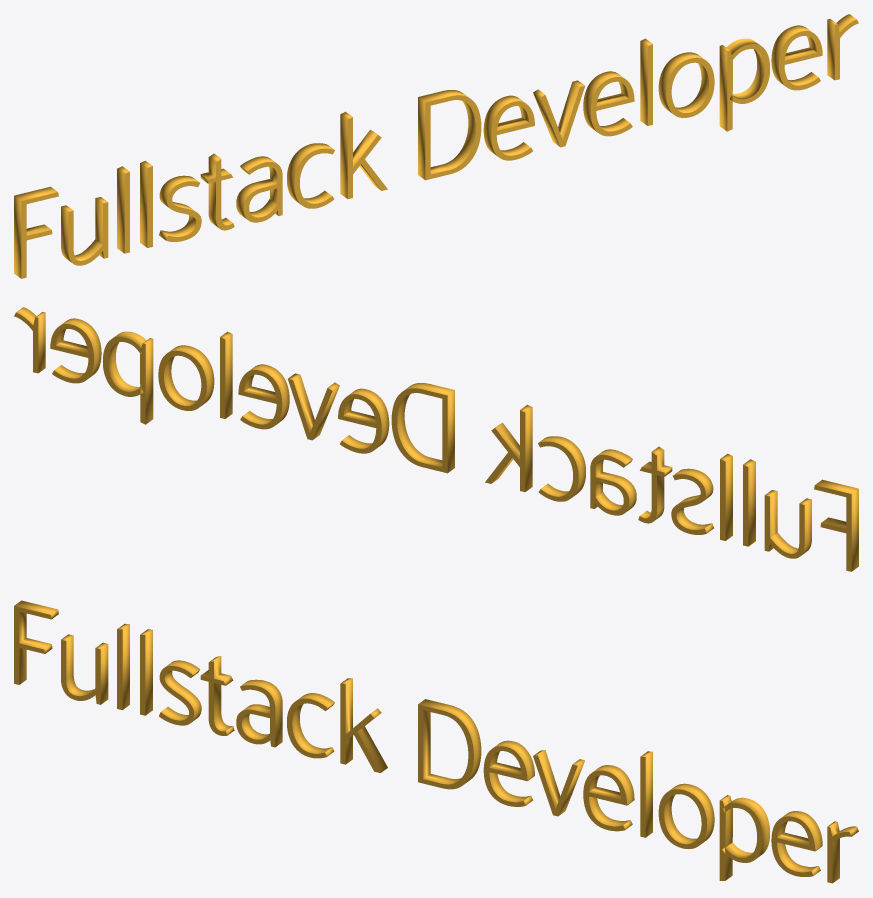
The model's file is fullstack_developer.glb.
3 renders of one model, top to bottom at view 1: azimuth 30°, elevation 25°; view 2: azimuth 150°, elevation 25°; view 3: azimuth 330°, elevation 25°, orthographic.
Parts seen in each view (by area): view 1: Text.010, Text.016, Text.015, Text.007, Text.009, Text.017, Text.013, Text.011, Text.002, Text.001, Text.012, Text.005 (+6 smaller); view 2: Text.010, Text.016, Text.015, Text.007, Text.009, Text.017, Text.013, Text.011, Text.002, Text.001, Text.012, Text.005 (+6 smaller); view 3: Text.010, Text.016, Text.011, Text.013, Text.017, Text.009, Text.007, Text.015, Text.002, Text.001, Text.005, Text.012 (+6 smaller).
Part boxes in pixels (bbox=[...]): Text.010: bbox=[418, 90, 481, 180]; Text.016: bbox=[719, 38, 770, 131]; Text.015: bbox=[658, 52, 714, 117]; Text.007: bbox=[236, 156, 282, 222]; Text.009: bbox=[340, 111, 387, 198]; Text.017: bbox=[771, 25, 822, 90]; Text.013: bbox=[583, 71, 634, 136]; Text.011: bbox=[483, 95, 534, 160]; Text.002: bbox=[61, 197, 108, 265]; Text.001: bbox=[14, 186, 58, 278]; Text.012: bbox=[533, 80, 584, 147]; Text.005: bbox=[159, 175, 201, 241]; Text.010: bbox=[391, 383, 454, 473]; Text.016: bbox=[102, 331, 153, 424]; Text.015: bbox=[158, 345, 214, 410]; Text.007: bbox=[590, 449, 636, 515]; Text.009: bbox=[485, 404, 532, 491]; Text.017: bbox=[50, 318, 101, 383]; Text.013: bbox=[238, 364, 289, 429]; Text.011: bbox=[338, 388, 389, 453]; Text.002: bbox=[764, 490, 811, 558]; Text.001: bbox=[814, 479, 858, 571]; Text.012: bbox=[288, 373, 339, 440]; Text.005: bbox=[671, 468, 713, 534]; Text.010: bbox=[418, 699, 481, 789]; Text.016: bbox=[719, 795, 769, 880]; Text.011: bbox=[483, 740, 534, 806]; Text.013: bbox=[583, 765, 634, 831]; Text.017: bbox=[771, 811, 822, 876]; Text.009: bbox=[340, 678, 387, 772]; Text.007: bbox=[236, 679, 282, 747]; Text.015: bbox=[658, 783, 714, 848]; Text.002: bbox=[61, 634, 108, 704]; Text.001: bbox=[14, 600, 58, 684]; Text.005: bbox=[159, 660, 201, 725]; Text.012: bbox=[533, 750, 584, 816].
Size of the model in its own units: 5.18 by 0.6263 by 0.08.
